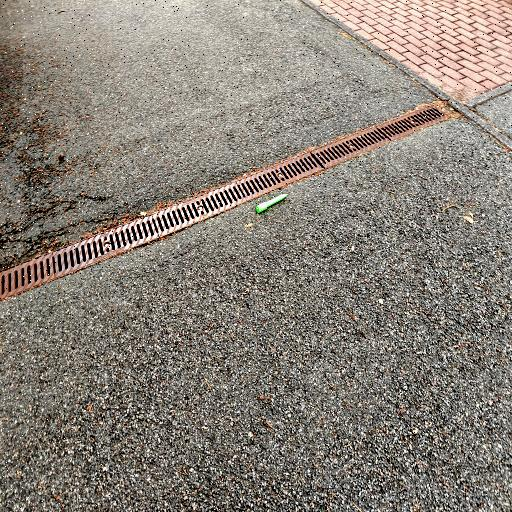Probe-Detection: (256, 194, 287, 213)
